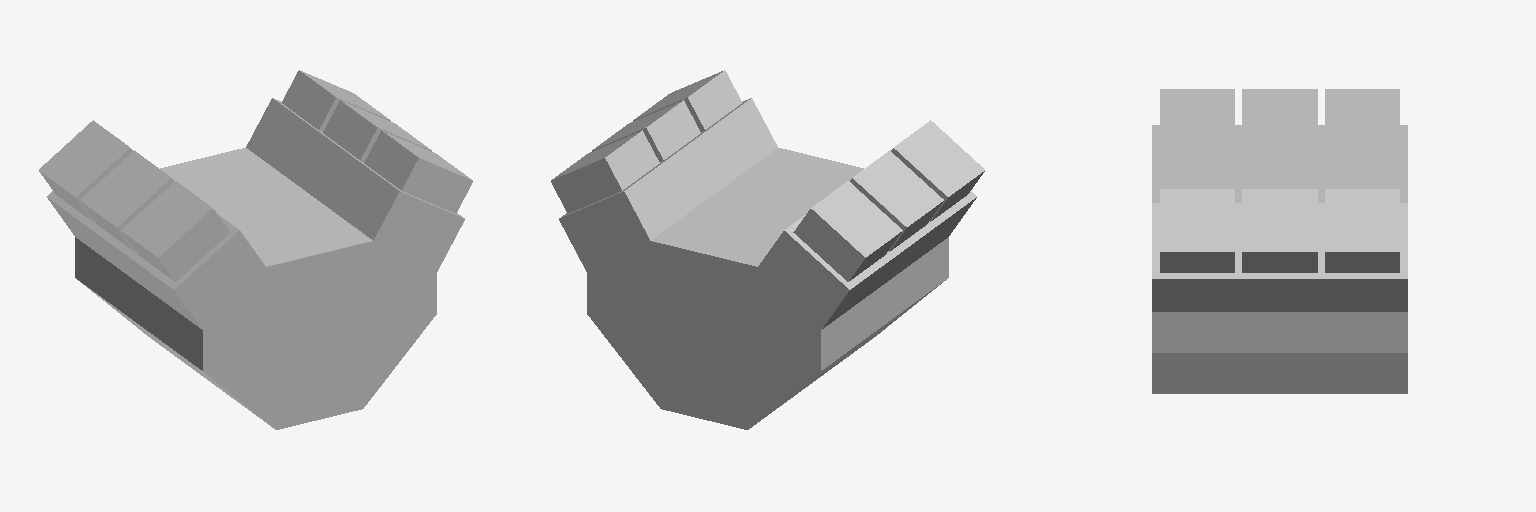
File: v6insolvo.obj
The picture shows the model from 3 angles: view 1: azimuth 30°, elevation 25°; view 2: azimuth 150°, elevation 25°; view 3: azimuth 270°, elevation 25°; orthographic projection.
Visible parts, largest first — view 1: cube; view 2: cube; view 3: cube.
Part boxes in pixels (bbox=[...]): cube: bbox=[39, 70, 472, 429]; cube: bbox=[551, 70, 984, 429]; cube: bbox=[1152, 89, 1407, 393].
Bounding box in the file's own units: 0.8872 × 0.629 × 0.6215.